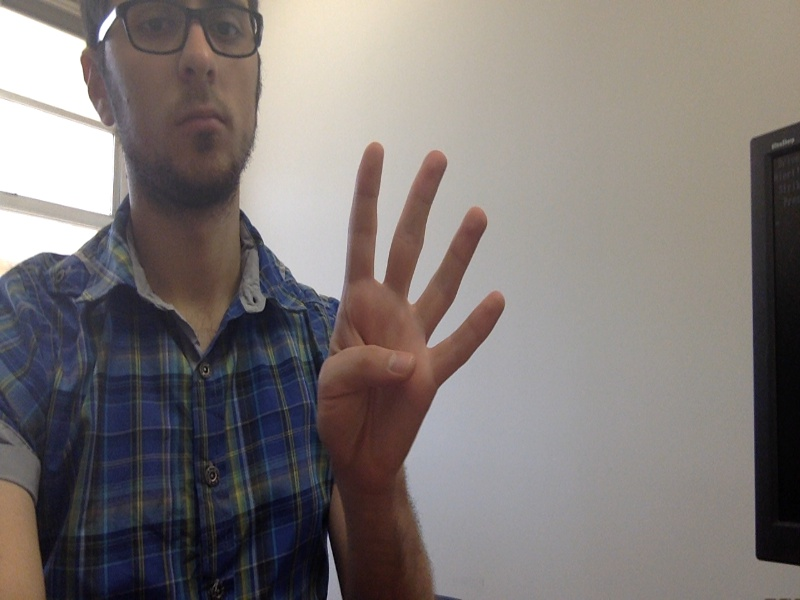4-hand: (316, 140, 504, 473)
